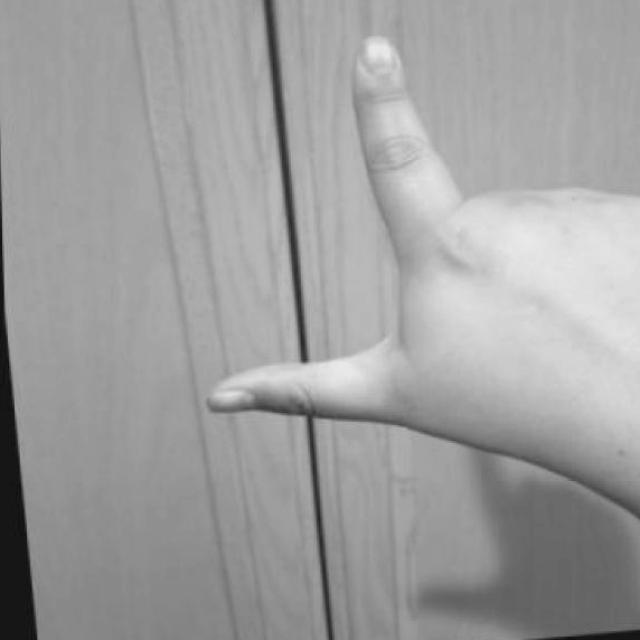L: (198, 24, 640, 547)
